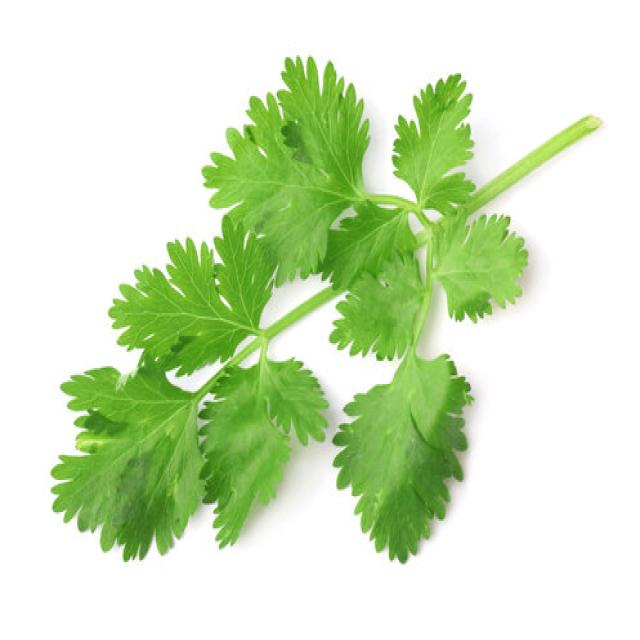Carrot: (457, 110, 603, 219)
Coriander Leaves: (49, 51, 603, 564)
